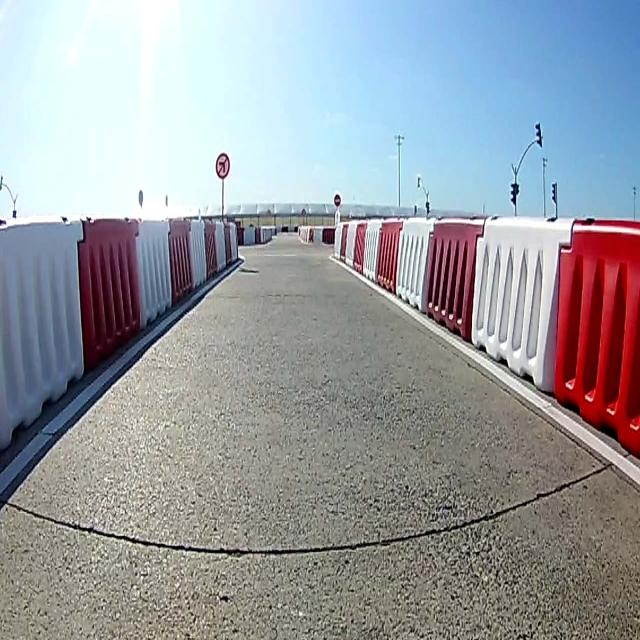girisyok: (333, 192, 342, 206)
soladonulmez: (214, 153, 230, 179)
